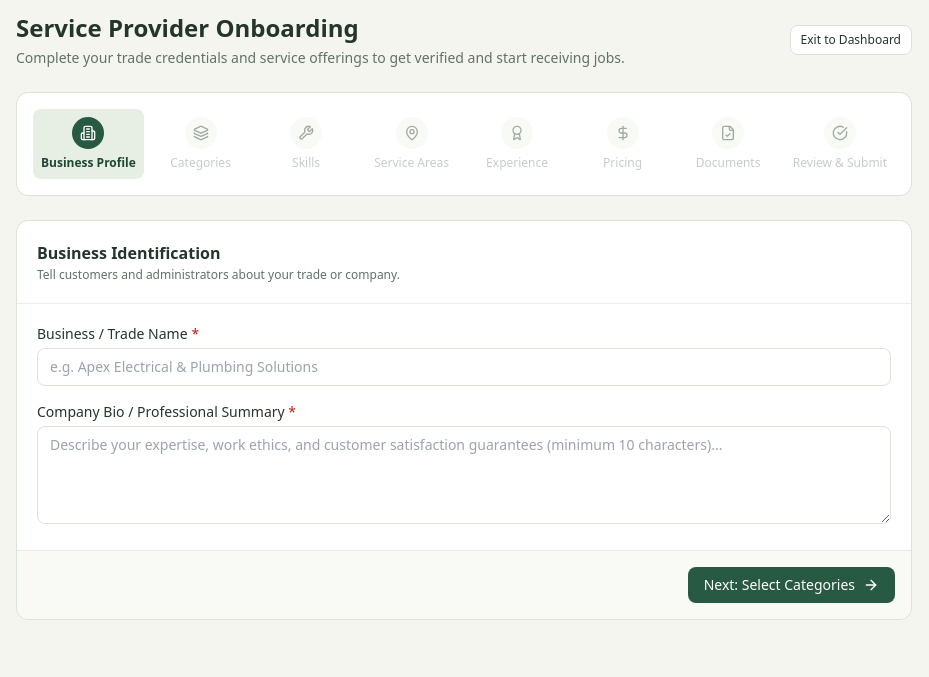
Test case: Milestone 4: Provider Onboarding, Profile & Admin Verification Frontend › 1. should render ProviderOnboardingWizard step 1 and validate inputs before advancing
Expected: the heading "Service Provider Onboarding" is shown, [16,11,359,44]
Expected: the field with placeholder "e.g. Apex Electrical & Plumbing Solutions" is shown, [37,348,891,386]
// Try to advance without entering required fields
Click the button "Next: Select Categories". click: {"x": 791, "y": 585}
box: [688,567,895,603]
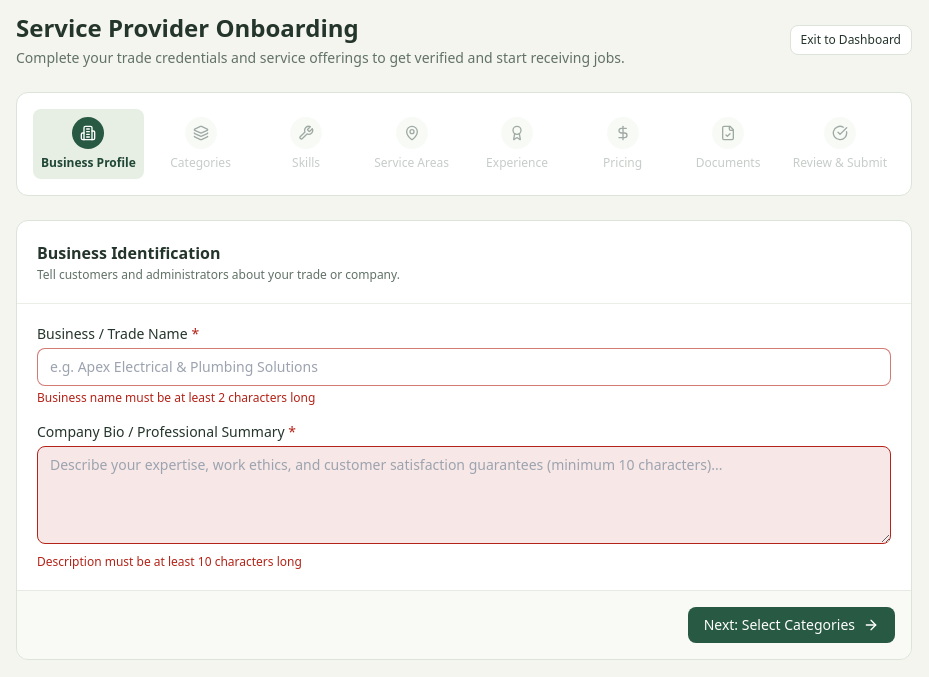
Expected: the text "Business name must be at least 2 characters long" is shown, [37,389,315,406]
// Fill Business Profile and advance
Type "Apex Plumbing Co" into the field with placeholder "e.g. Apex Electrical & Plumbing Solutions". click: {"x": 464, "y": 367}
box: [37,348,891,386]
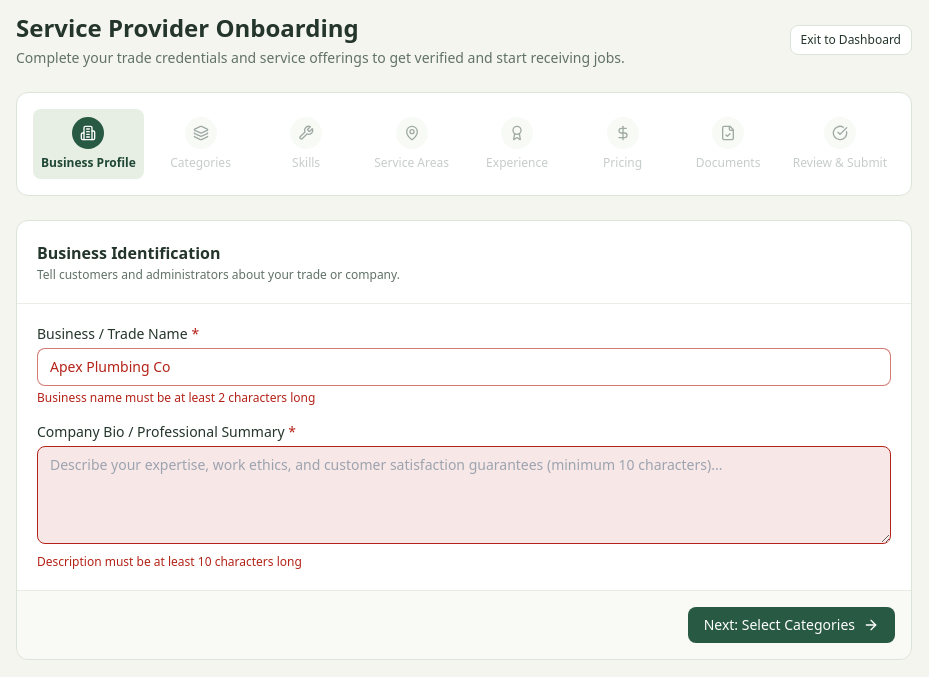
Replace the text in the text box with placeholder "Describe your expertise" with "We offer licensed professional plumbing repairs across the city.". click: {"x": 464, "y": 495}
box: [37,446,891,544]
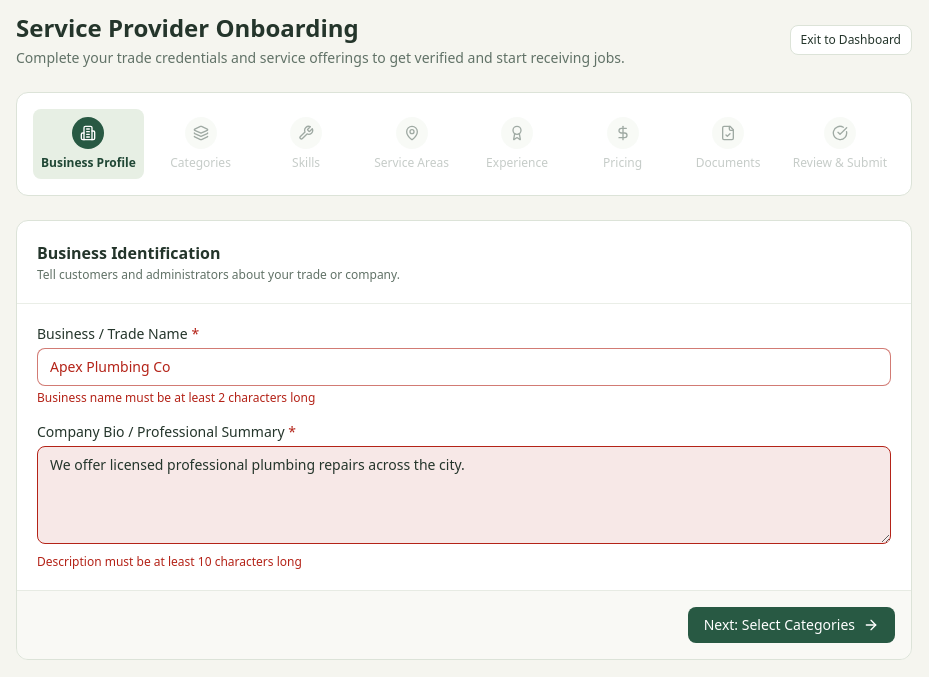
Click the button "Next: Select Categories". click: {"x": 791, "y": 625}
box: [688,607,895,643]
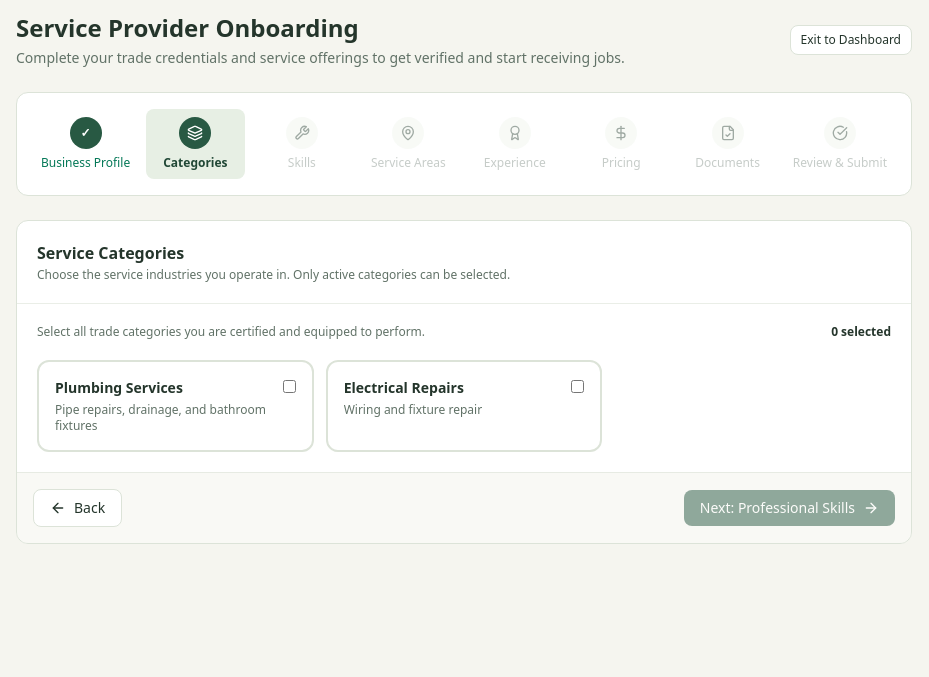
Expected: the heading "Service Categories" is shown, [37,242,184,264]
Expected: the text "Plumbing Services" is shown, [55,378,183,398]
Expected: the text "Electrical Repairs" is shown, [344,378,464,398]
